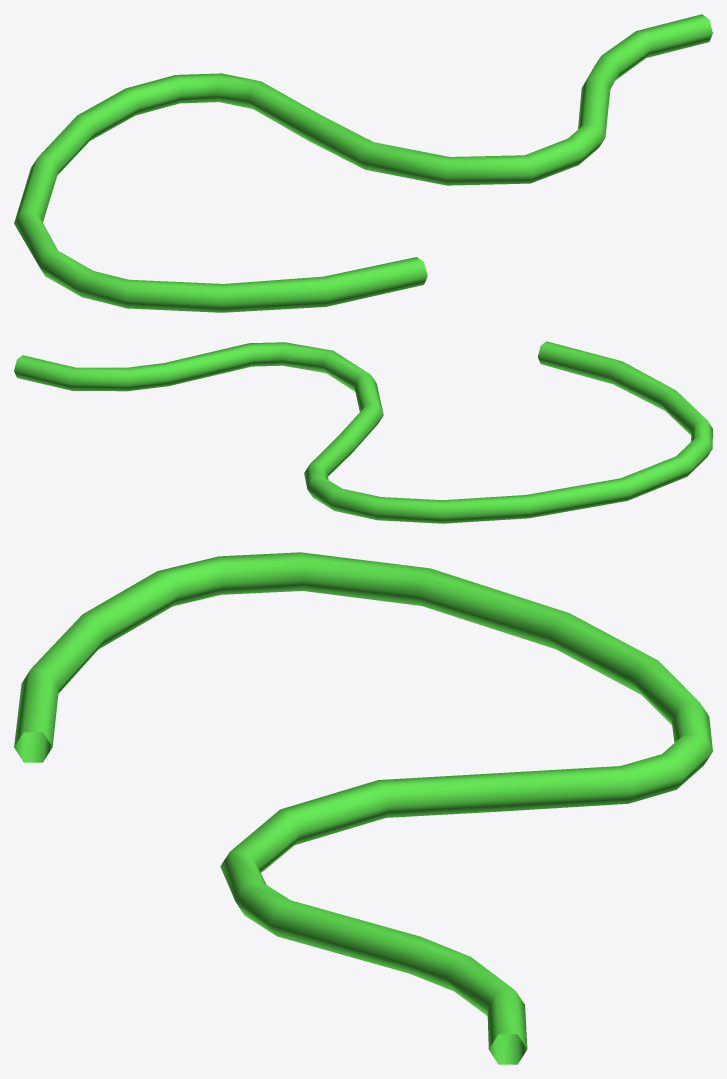
Rendered from Wire_02_C.fbx.
The picture shows the model from 3 angles, top to bottom: view 1: azimuth 30°, elevation 25°; view 2: azimuth 150°, elevation 25°; view 3: azimuth 270°, elevation 25°; orthographic projection. The views are drawn at different scales.
Visible parts, largest first — view 1: Wire_02_C; view 2: Wire_02_C; view 3: Wire_02_C.
Boxes of the visible parts, x1,y1,x2,y2 form: Wire_02_C: (14,14,712,312); Wire_02_C: (14,341,712,523); Wire_02_C: (14,552,712,1064).
Size of the model in its own units: 75.54 by 2.4 by 45.9.
